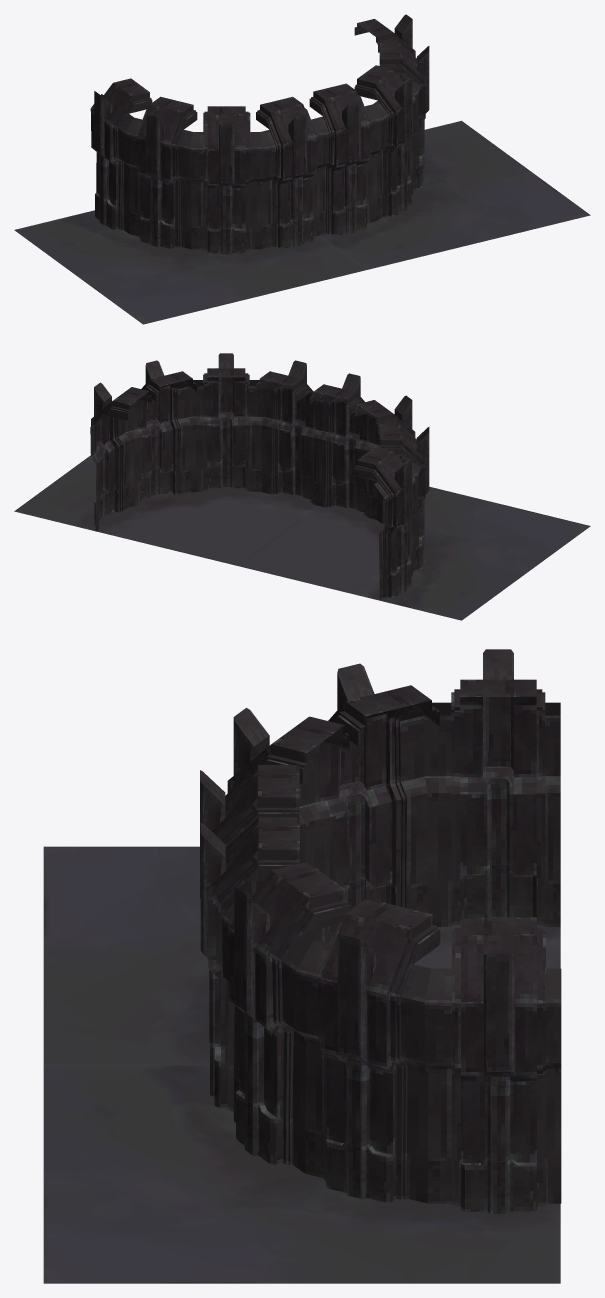
The model's file is ConvexInnerWallSegments.fbx.
3 views of the same model, one above another, from view 1: azimuth 30°, elevation 25°; view 2: azimuth 150°, elevation 25°; view 3: azimuth 270°, elevation 25° (orthographic). The views are drawn at different scales.
Parts seen in each view (by area): view 1: Inner Wall Corner Convex R, Inner Wall Corner Convex L; view 2: Inner Wall Corner Convex L, Inner Wall Corner Convex R; view 3: Inner Wall Corner Convex L, Inner Wall Corner Convex R.
Part boxes in pixels (left/top/right/bottom): Inner Wall Corner Convex R: left=14, top=78, right=366, bottom=324; Inner Wall Corner Convex L: left=309, top=14, right=590, bottom=269; Inner Wall Corner Convex L: left=14, top=353, right=322, bottom=565; Inner Wall Corner Convex R: left=238, top=373, right=590, bottom=620; Inner Wall Corner Convex L: left=43, top=817, right=561, bottom=1283; Inner Wall Corner Convex R: left=43, top=649, right=560, bottom=1065.
Bounding box in the file's own units: 4000 × 1130 × 2002.
